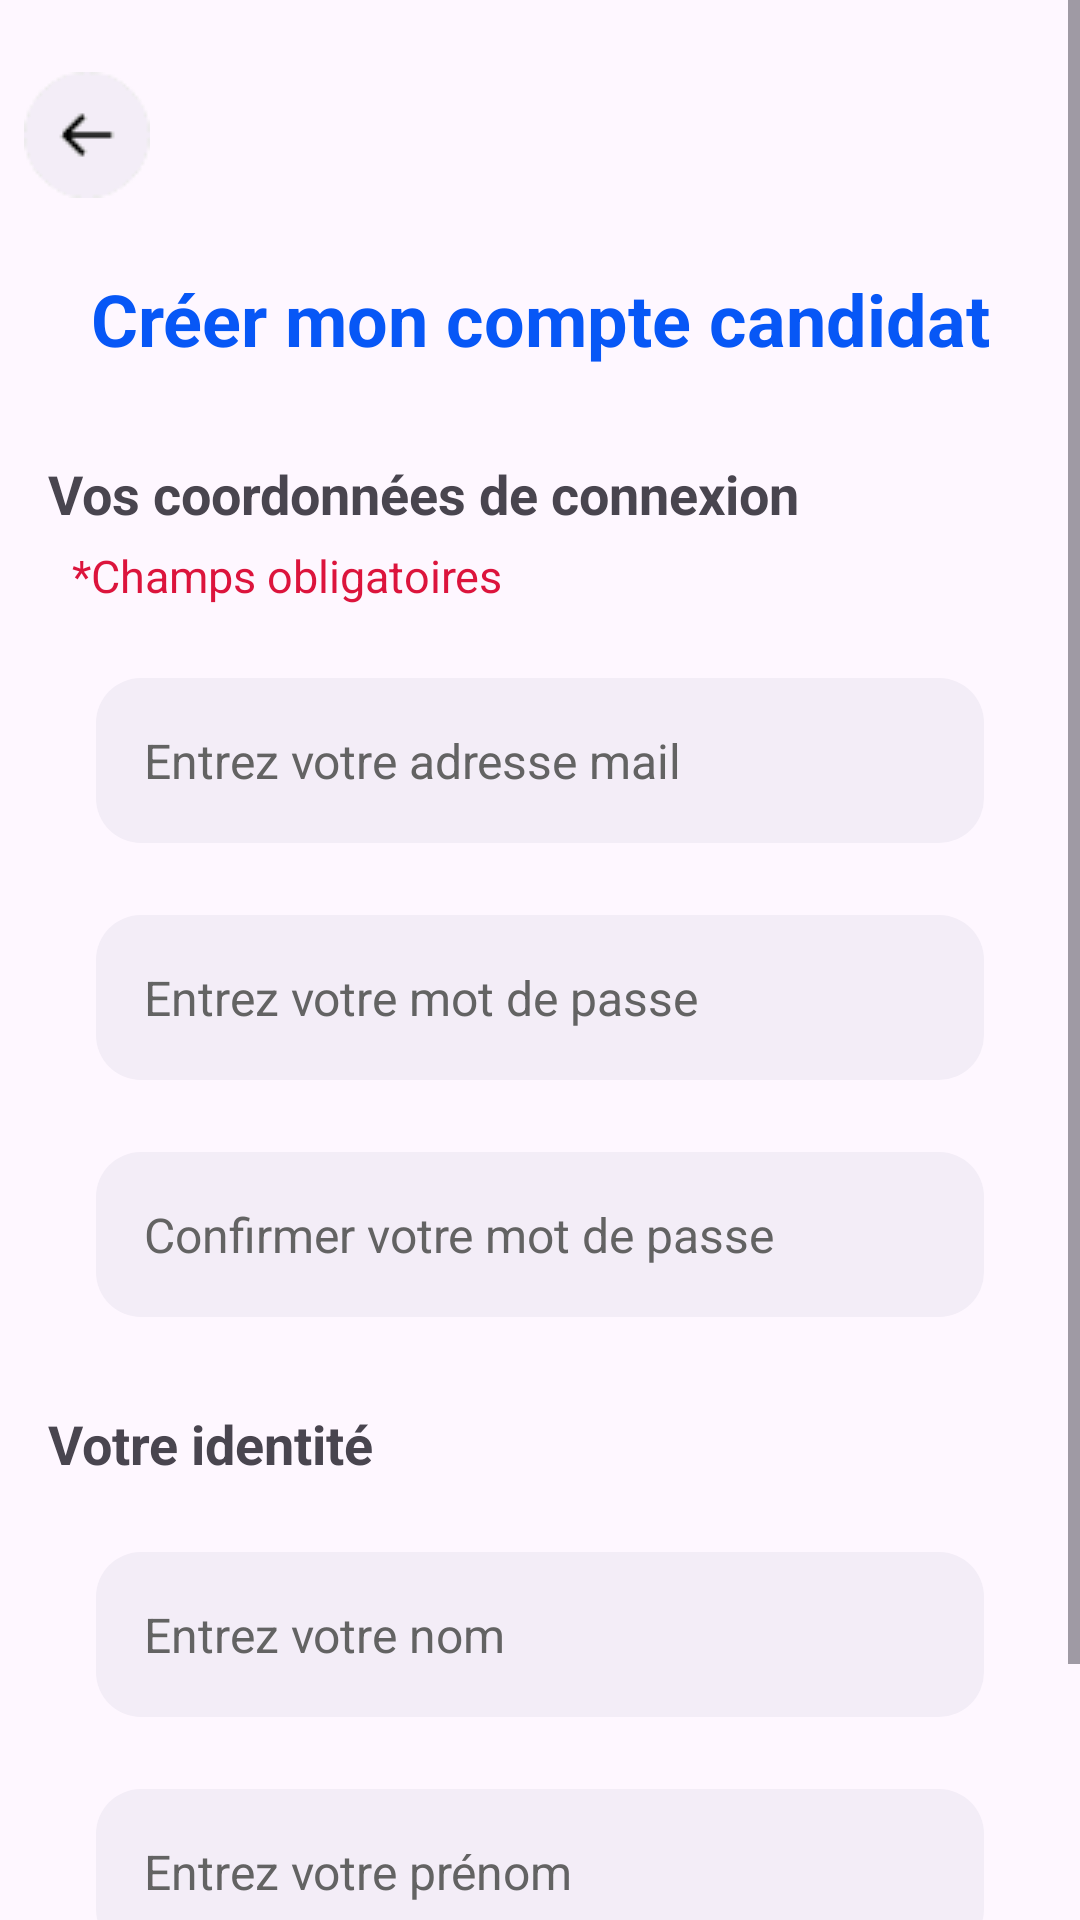

Icons on this 1080 x 1920 Android screen, each with the point to tap as point (x, y):
back: point (87, 135)
